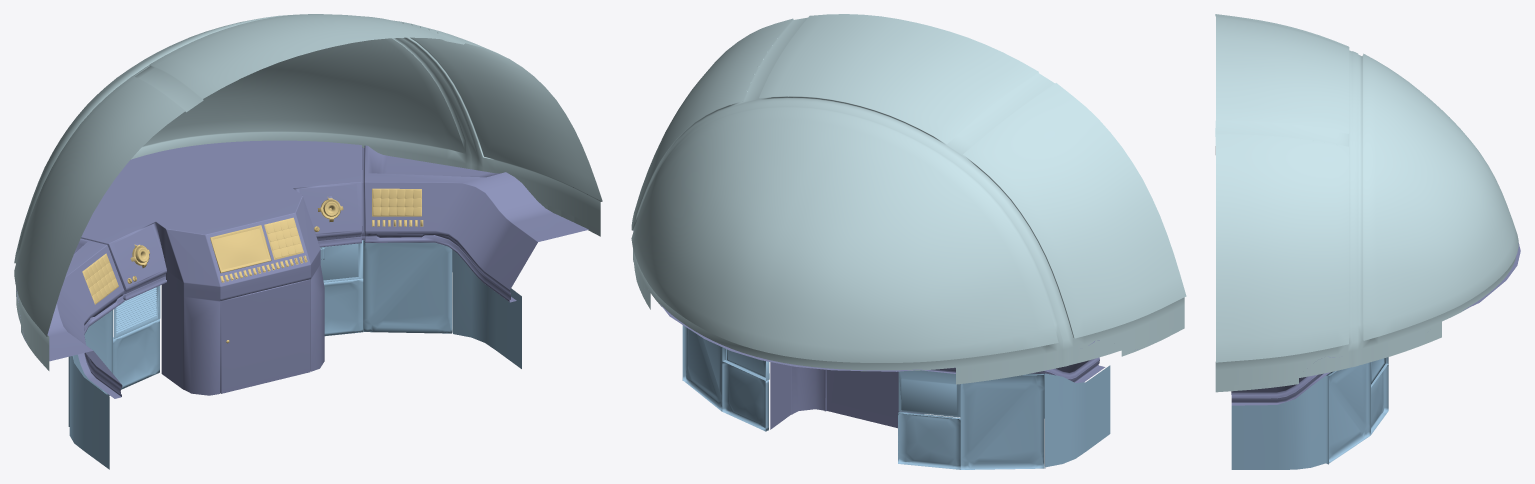
File: CockpitModel.fbx
3 renders of one model, left to right at view 1: azimuth 30°, elevation 25°; view 2: azimuth 150°, elevation 25°; view 3: azimuth 270°, elevation 25°, orthographic. The views are drawn at different scales.
Visible parts, largest first — view 1: polySurface130; view 2: polySurface130; view 3: polySurface130.
Part boxes in pixels (box(x1,y1,x2,y2)): polySurface130: box(14, 14, 602, 469); polySurface130: box(631, 14, 1186, 469); polySurface130: box(1215, 14, 1520, 469).
Size of the model in its own units: 2.23 by 1.45 by 1.2.
